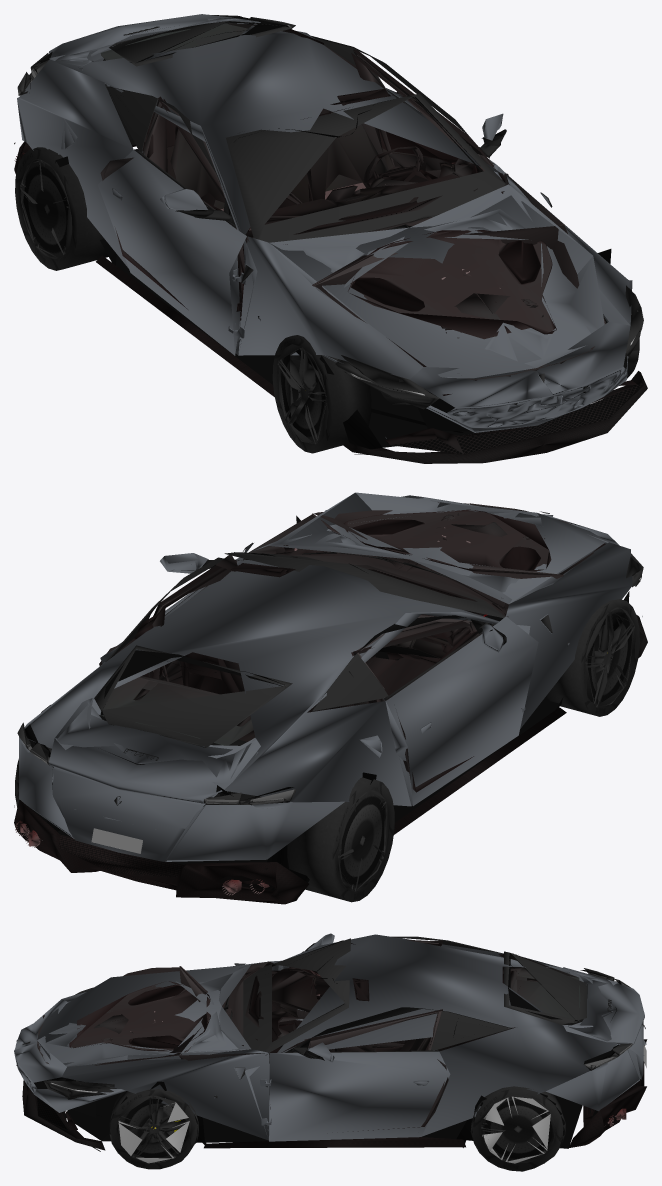
File: ferrari-roma.lod.glb
3 renders of one model, top to bottom at view 1: azimuth 30°, elevation 25°; view 2: azimuth 150°, elevation 25°; view 3: azimuth 270°, elevation 25°, orthographic. The views are drawn at different scales.
Visible parts, largest first — view 1: bodyPaint_Geo_lodABody_lodA_Ferrari_RomaRewardRecycled_2020P, Window_Geo_lodA, Coloured_Geo_lodA_Ferrari_RomaRewardRecycled_2020Coloured_Ma, Interior_Geo_lodA_Ferrari_RomaRewardRecycled_2020InteriorA_M, Engine_Geo_lodA_Ferrari_RomaRewardRecycled_2020EngineA_Mater, Carbon2_Geo_lodA_Ferrari_RomaRewardRecycled_2020Carbon2_Mate; view 2: bodyPaint_Geo_lodABody_lodA_Ferrari_RomaRewardRecycled_2020P, Window_Geo_lodA, Coloured_Geo_lodA_Ferrari_RomaRewardRecycled_2020Coloured_Ma, Interior_Geo_lodA_Ferrari_RomaRewardRecycled_2020InteriorA_M, Carbon2_Geo_lodA_Ferrari_RomaRewardRecycled_2020Carbon2_Mate, Engine_Geo_lodA_Ferrari_RomaRewardRecycled_2020EngineA_Mater, ManufacturerPlate_Geo_lodA_Ferrari_RomaRewardRecycled_2020Ma, Coloured_Geo_lodA; view 3: bodyPaint_Geo_lodABody_lodA_Ferrari_RomaRewardRecycled_2020P, Window_Geo_lodA, Coloured_Geo_lodA_Ferrari_RomaRewardRecycled_2020Coloured_Ma, Interior_Geo_lodA_Ferrari_RomaRewardRecycled_2020InteriorA_M, Engine_Geo_lodA_Ferrari_RomaRewardRecycled_2020EngineA_Mater, Carbon2_Geo_lodA_Ferrari_RomaRewardRecycled_2020Carbon2_Mate.
Part boxes in pixels (box(x1,y1,x2,y2)): bodyPaint_Geo_lodABody_lodA_Ferrari_RomaRewardRecycled_2020P: box(17, 14, 632, 438); Window_Geo_lodA: box(15, 15, 644, 454); Coloured_Geo_lodA_Ferrari_RomaRewardRecycled_2020Coloured_Ma: box(103, 21, 637, 453); Interior_Geo_lodA_Ferrari_RomaRewardRecycled_2020InteriorA_M: box(100, 23, 495, 320); Engine_Geo_lodA_Ferrari_RomaRewardRecycled_2020EngineA_Mater: box(285, 191, 606, 380); Carbon2_Geo_lodA_Ferrari_RomaRewardRecycled_2020Carbon2_Mate: box(14, 102, 647, 463); bodyPaint_Geo_lodABody_lodA_Ferrari_RomaRewardRecycled_2020P: box(19, 492, 642, 861); Window_Geo_lodA: box(15, 515, 643, 904); Coloured_Geo_lodA_Ferrari_RomaRewardRecycled_2020Coloured_Ma: box(94, 511, 605, 861); Interior_Geo_lodA_Ferrari_RomaRewardRecycled_2020InteriorA_M: box(99, 555, 493, 792); Carbon2_Geo_lodA_Ferrari_RomaRewardRecycled_2020Carbon2_Mate: box(14, 615, 647, 904); Engine_Geo_lodA_Ferrari_RomaRewardRecycled_2020EngineA_Mater: box(283, 502, 593, 616); ManufacturerPlate_Geo_lodA_Ferrari_RomaRewardRecycled_2020Ma: box(91, 828, 142, 853); Coloured_Geo_lodA: box(15, 820, 269, 895); bodyPaint_Geo_lodABody_lodA_Ferrari_RomaRewardRecycled_2020P: box(14, 933, 646, 1141); Window_Geo_lodA: box(37, 940, 632, 1171); Coloured_Geo_lodA_Ferrari_RomaRewardRecycled_2020Coloured_Ma: box(16, 936, 645, 1130); Interior_Geo_lodA_Ferrari_RomaRewardRecycled_2020InteriorA_M: box(245, 939, 580, 1131); Engine_Geo_lodA_Ferrari_RomaRewardRecycled_2020EngineA_Mater: box(37, 966, 243, 1065); Carbon2_Geo_lodA_Ferrari_RomaRewardRecycled_2020Carbon2_Mate: box(22, 1008, 647, 1150).
Size of the model in its own units: 0.0211 by 0.0122 by 0.0465.
23 materials, 14 textured.
